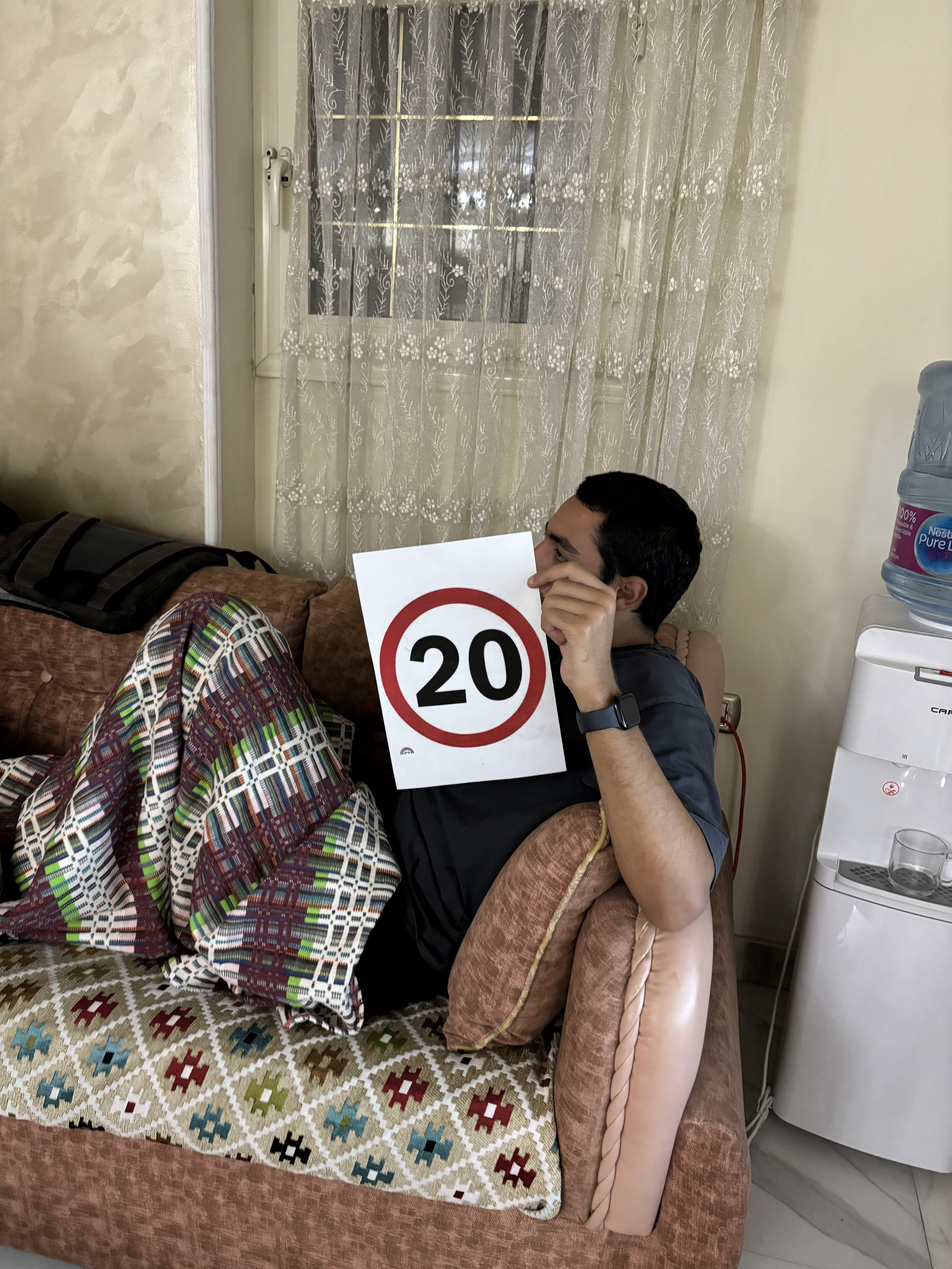20-Speed: (372, 580, 548, 742)
